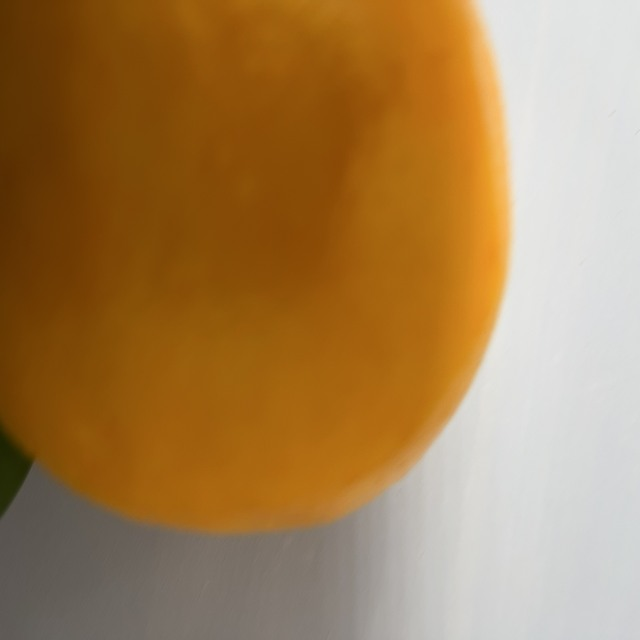Cam vang: (0, 0, 518, 539)
